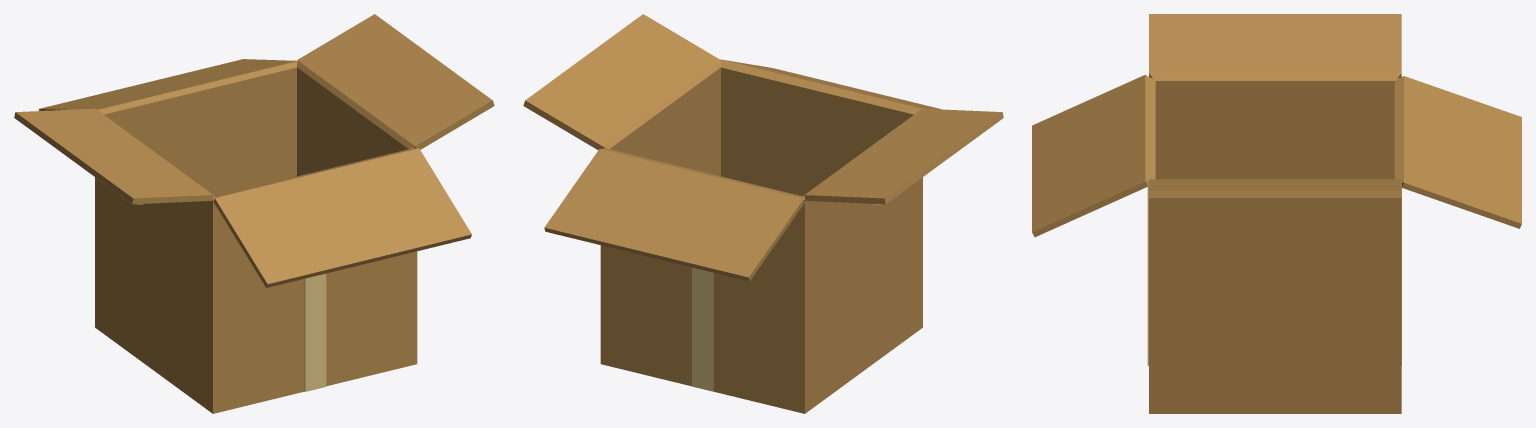
Rendered from luggage.glb.
3 renders of one model, left to right at view 1: azimuth 30°, elevation 25°; view 2: azimuth 150°, elevation 25°; view 3: azimuth 270°, elevation 25°, orthographic. The views are drawn at different scales.
Visible parts, largest first — view 1: Cube, Cube.003; view 2: Cube, Cube.002; view 3: Cube.
Part boxes in pixels (x1,y1,x2,y2): Cube: (14,14,494,413); Cube.003: (304,273,326,391); Cube: (523,14,1003,413); Cube.002: (692,267,713,391); Cube: (1032,14,1521,413).
Size of the model in its own units: 3.55 by 2.29 by 3.88.
